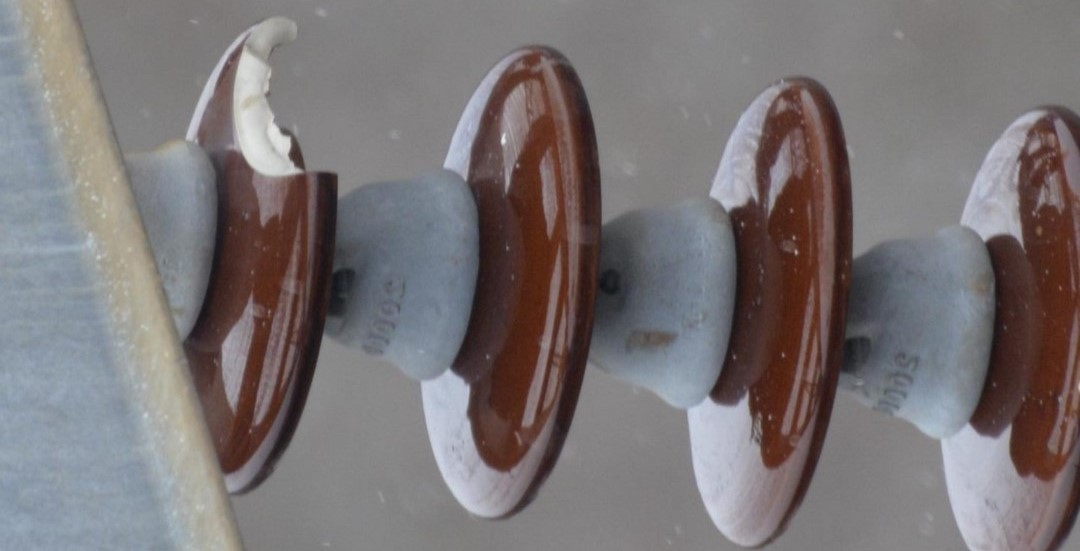insulator breakage: (166, 1, 351, 499)
